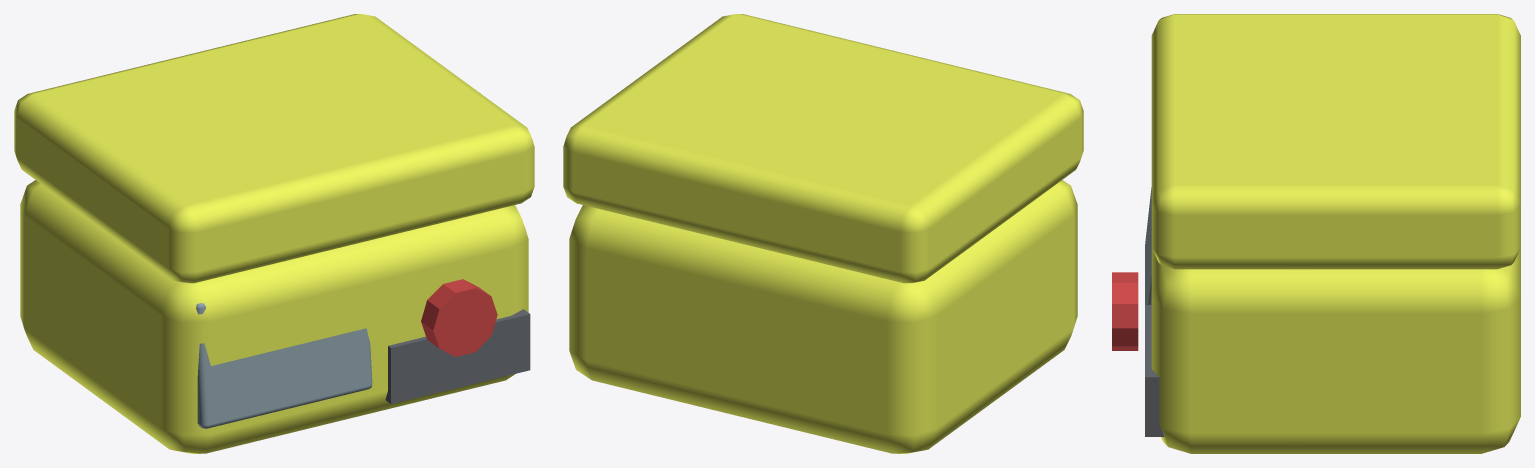
Rendered from fire-and-emergency-services-defibrillator-b0ea5b09__29926.glb.
3 views of the same model, side by side, from view 1: azimuth 30°, elevation 25°; view 2: azimuth 150°, elevation 25°; view 3: azimuth 270°, elevation 25° (orthographic). The views are drawn at different scales.
Visible parts, largest first — view 1: lid/hivis, defibrillator; view 2: lid/hivis, defibrillator; view 3: lid/hivis, defibrillator.
Part boxes in pixels (bbox=[...]): lid/hivis: bbox=[14, 14, 534, 283]; defibrillator: bbox=[20, 180, 530, 453]; lid/hivis: bbox=[563, 14, 1083, 283]; defibrillator: bbox=[569, 180, 1077, 453]; lid/hivis: bbox=[1151, 14, 1520, 269]; defibrillator: bbox=[1112, 187, 1520, 453].
Size of the model in its own units: 0.34 by 0.23 by 0.31.
